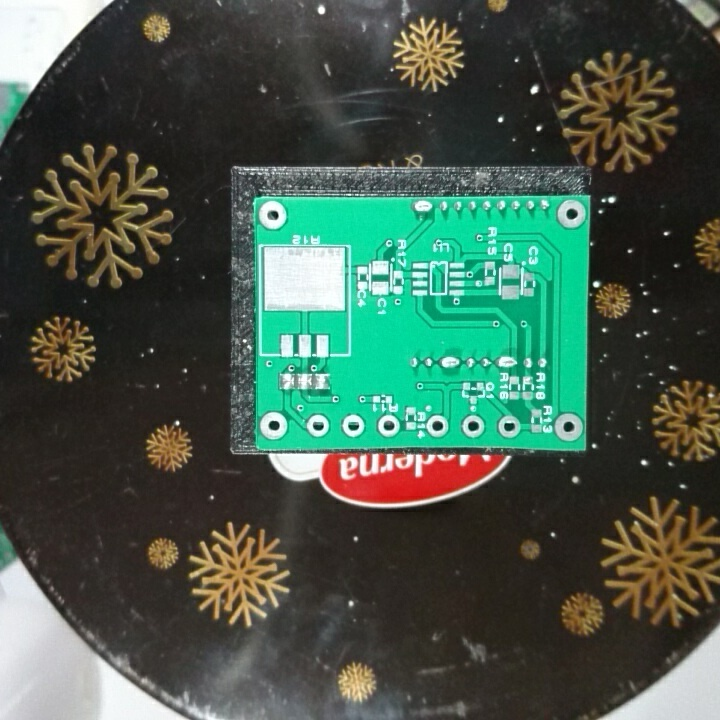F: (257, 198, 290, 233), (555, 198, 588, 232), (552, 411, 585, 445), (257, 409, 291, 442), (459, 412, 488, 440), (339, 412, 367, 440), (305, 412, 331, 440), (376, 412, 402, 439), (424, 412, 449, 439), (497, 414, 521, 440)
P: (411, 197, 436, 218), (437, 352, 463, 372), (494, 353, 519, 372)
